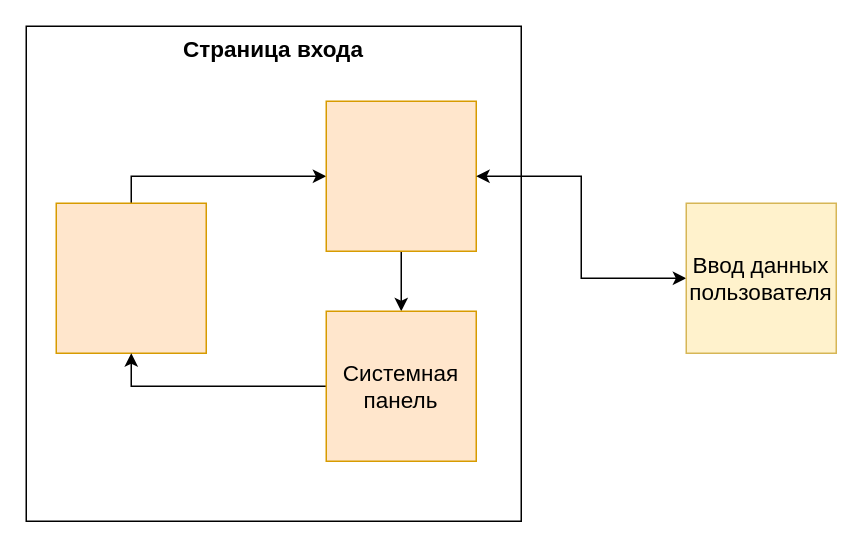
Image size: 863x548. Some labels were removed from this diagram. Each missing label, with the centre of its shape:
"БД Пользователей" goes at point 130,277.
"Модуль проверки пользователя" goes at point 400,175.
